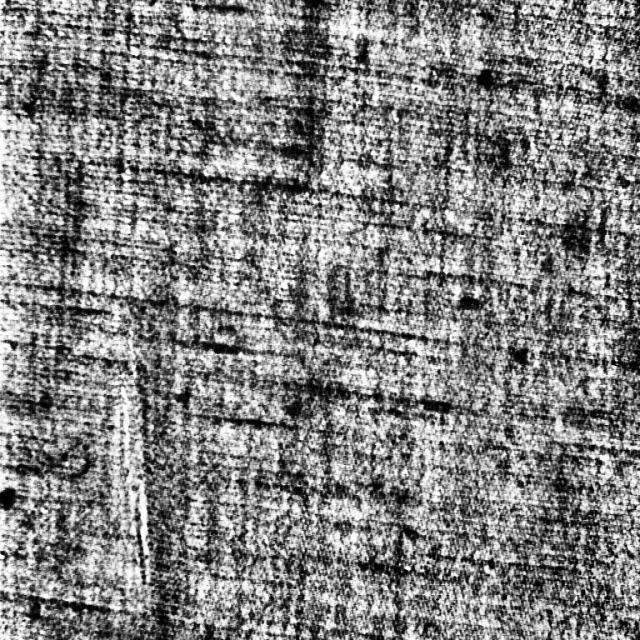gray stitch: (111, 364, 158, 599)
